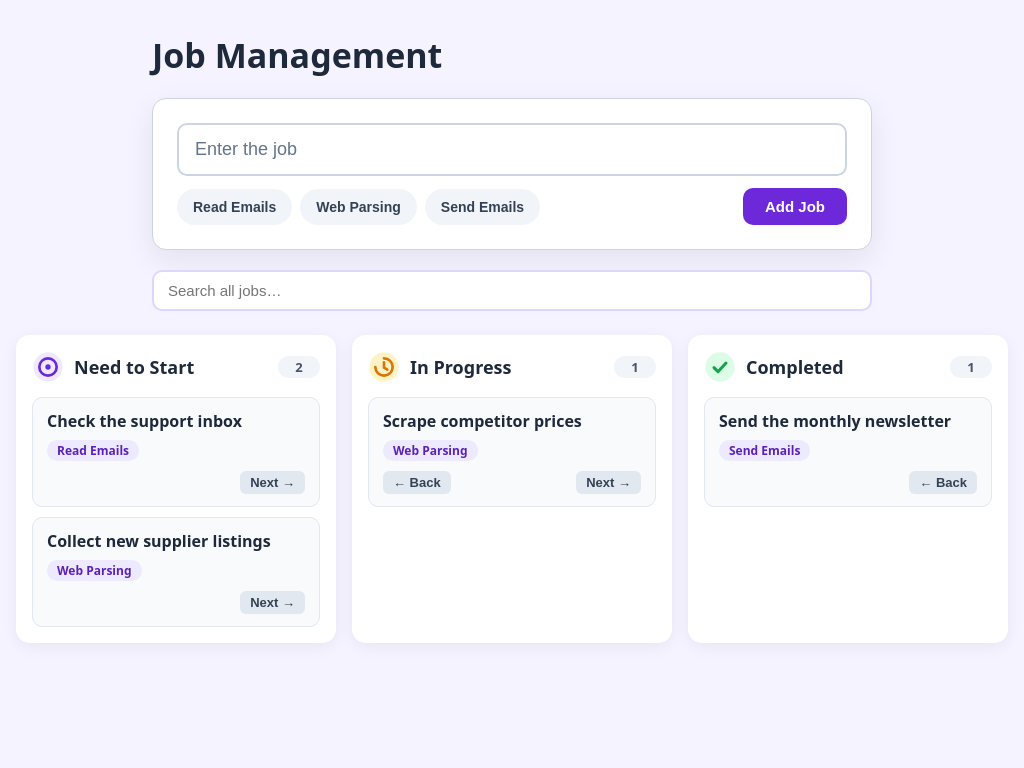
Test: the form adds jobs to Need to Start
In the field with placeholder "Enter the job": x=512, y=150 left=177, top=123, right=847, bottom=176, type "Reply to invoices"
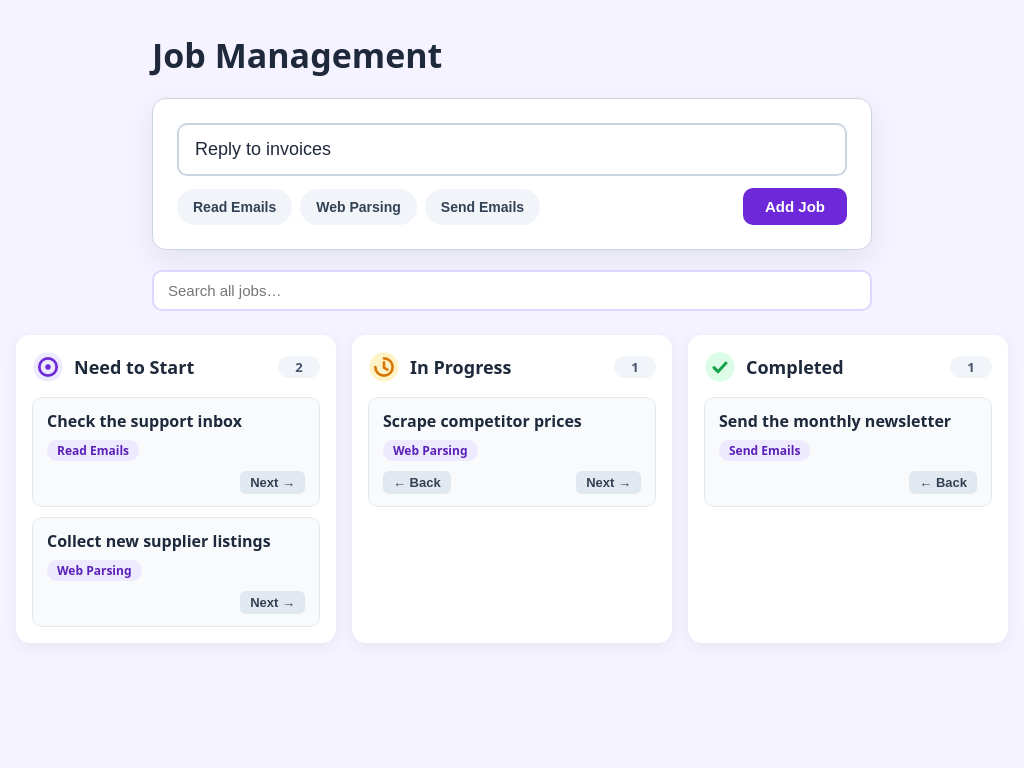
Click the button "Send Emails": x=482, y=206 left=425, top=188, right=540, bottom=224
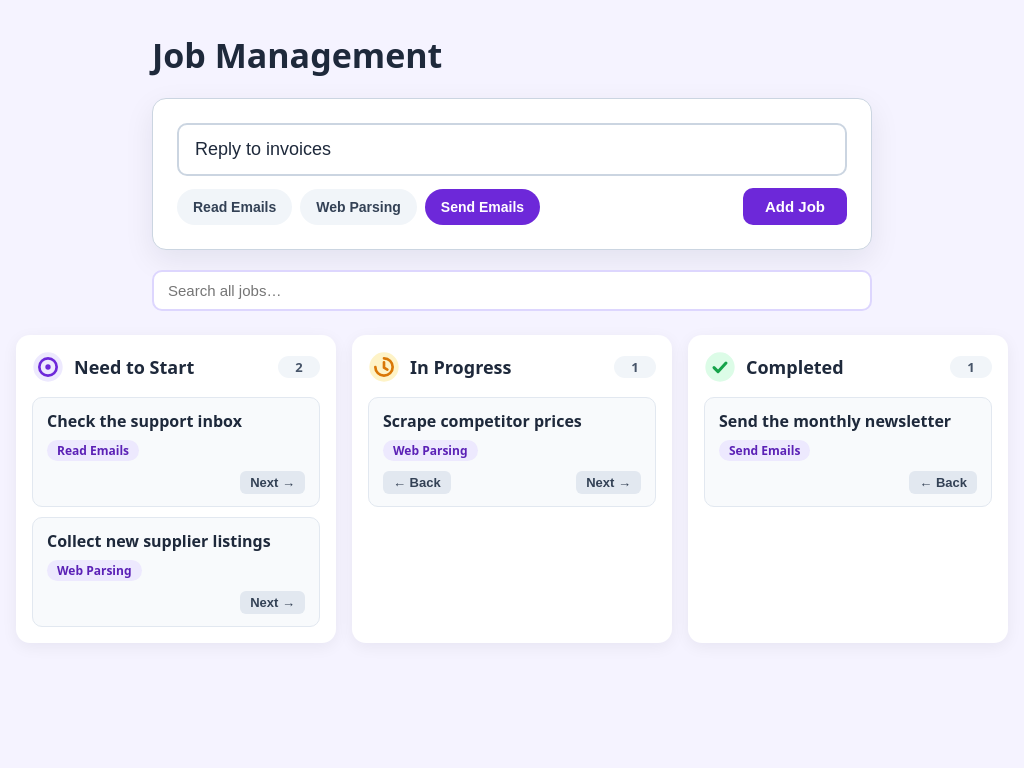
Click the button "Add Job": x=795, y=206 left=743, top=188, right=847, bottom=225
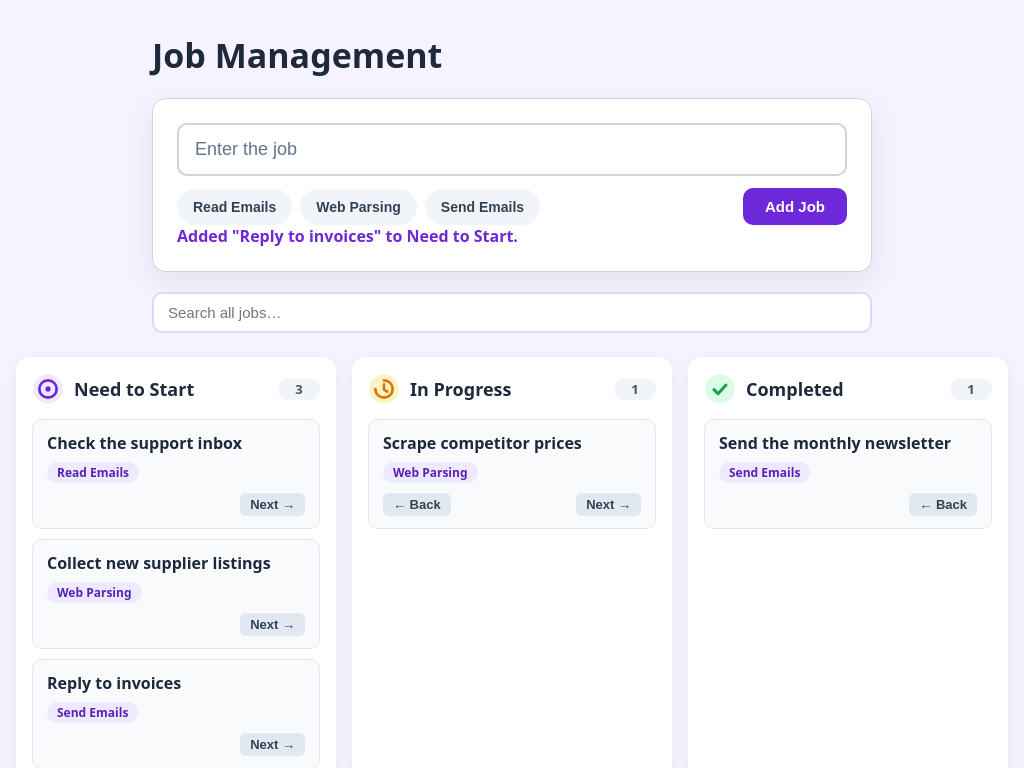
Expected: the message "Added \"Reply to invoices\" to Need to Start." is shown, left=177, top=225, right=518, bottom=247
